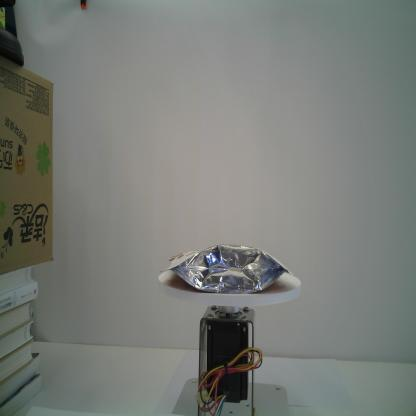Dried Fruit: (158, 244, 296, 295)
